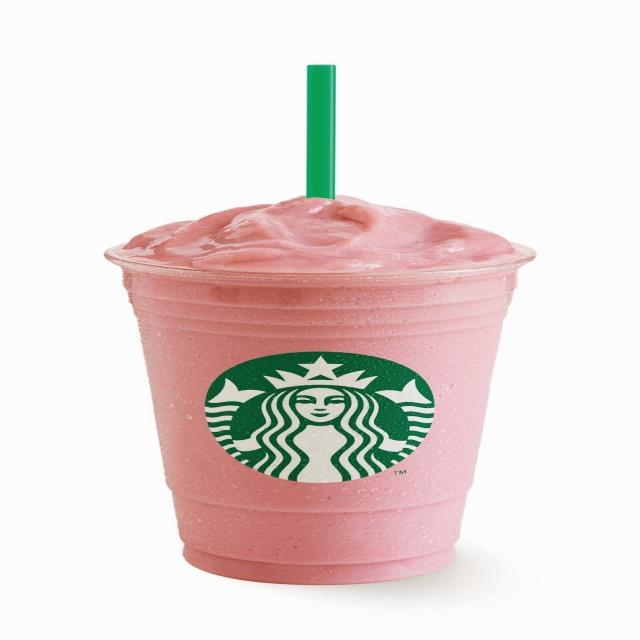plastic cup: (100, 192, 538, 583)
